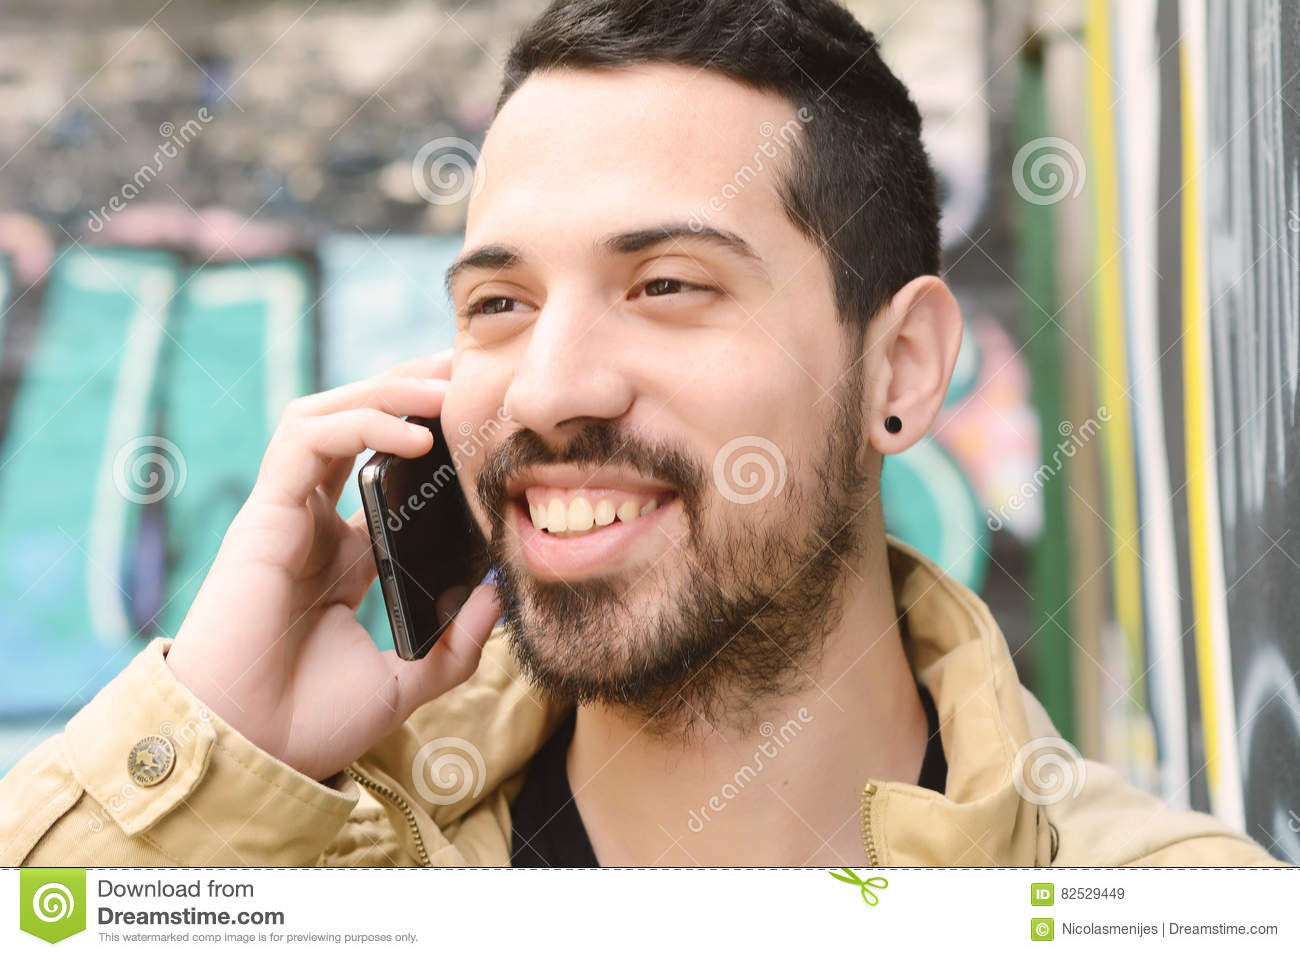phone: (339, 371, 483, 686)
talk: (196, 163, 809, 777)
